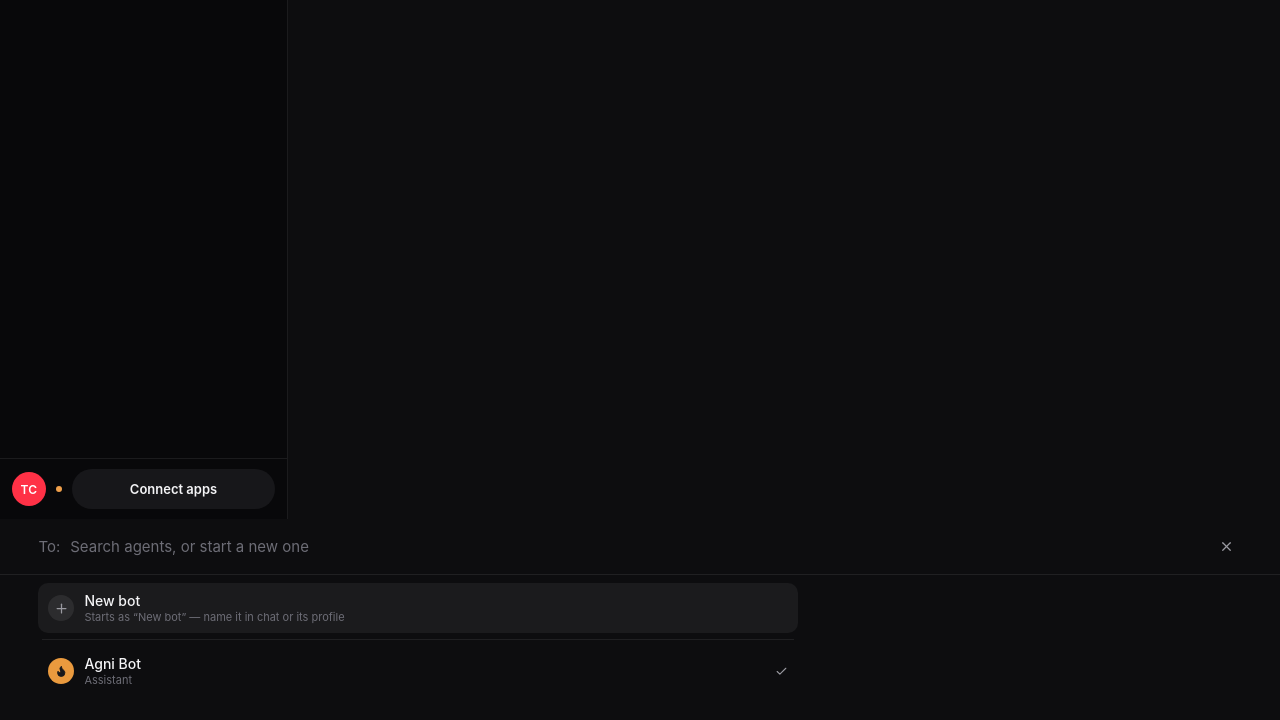
Test: query narrows the roster and keeps New bot reachable
(page scrolled)
Step 1. Type "zzz" into the dropdown → [636, 546], box [70,537,1202,556]
(page scrolled)
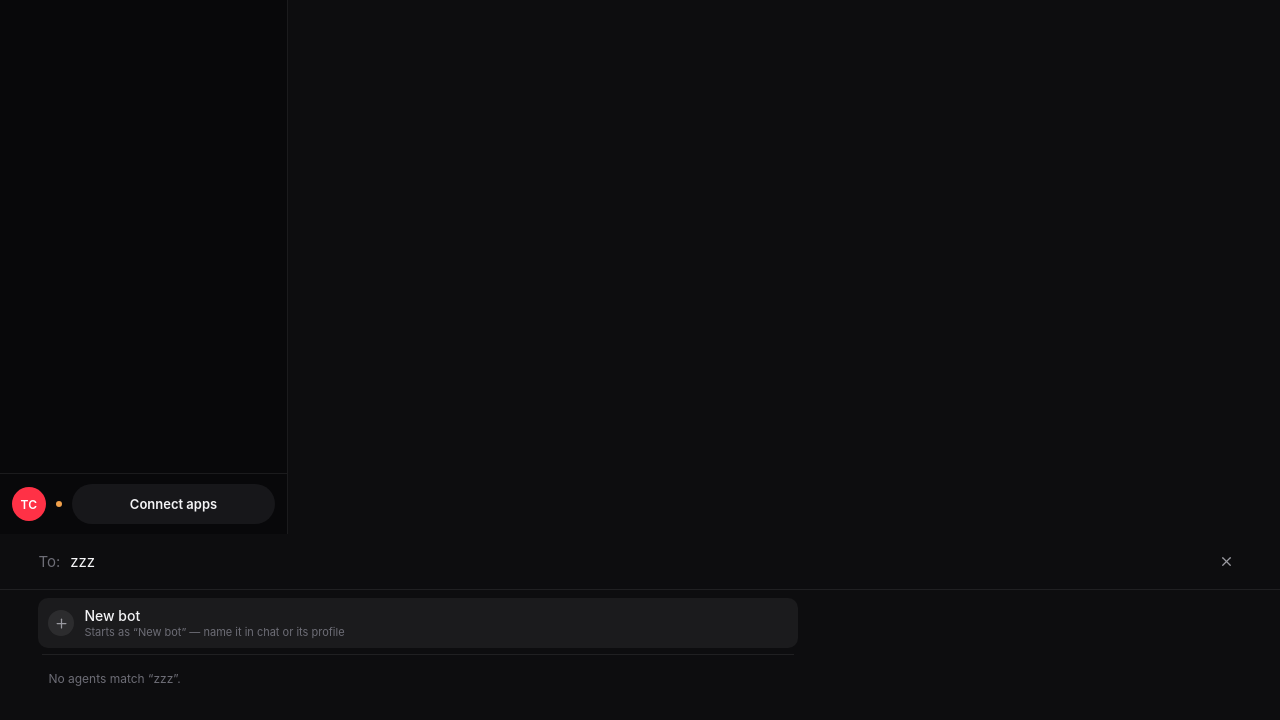
Expected: the option "New bot Starts as “New bot” — name it in chat or its profile" is shown, [38,598,798,648]
Result: the text "No agents match “zzz”." is shown at [48,671,181,686]
